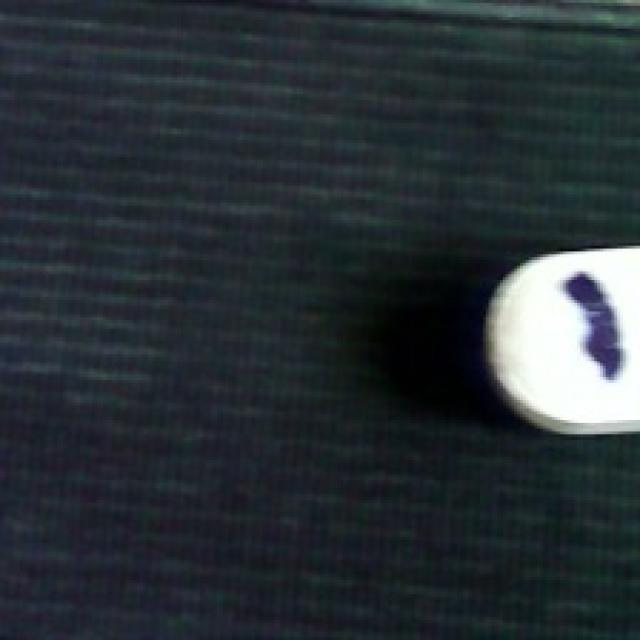defected: (477, 240, 637, 440)
